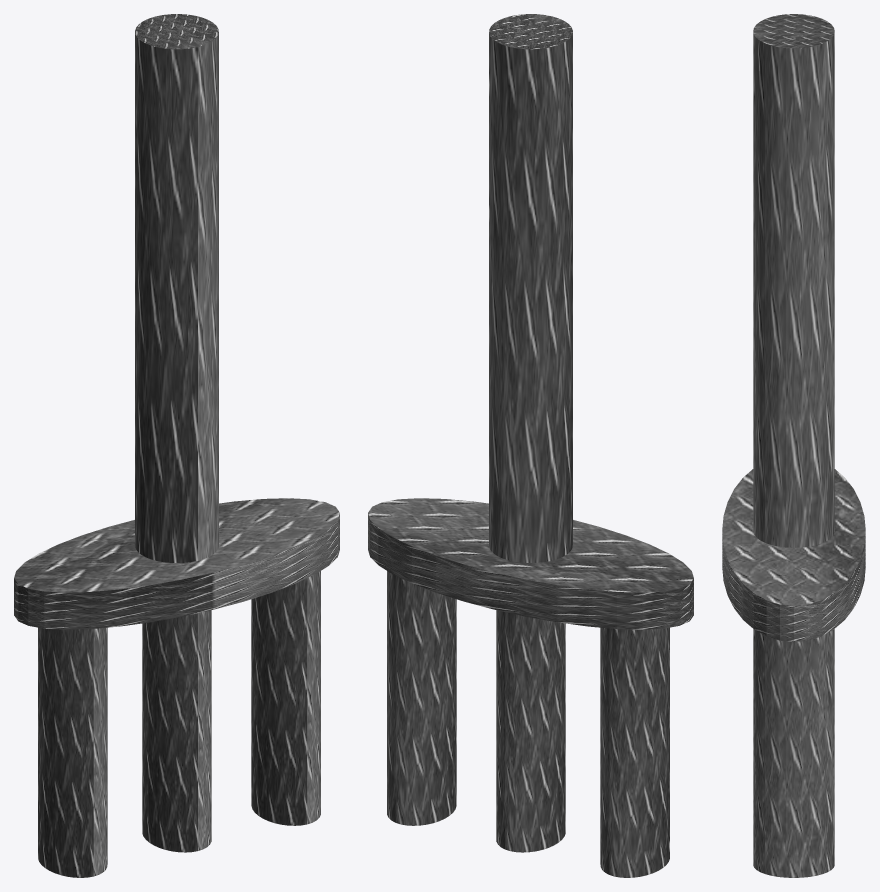
The model's file is Fork.fbx.
3 renders of one model, left to right at view 1: azimuth 30°, elevation 25°; view 2: azimuth 150°, elevation 25°; view 3: azimuth 270°, elevation 25°, orthographic. The views are drawn at different scales.
Visible parts, largest first — view 1: Cylinder.001; view 2: Cylinder.001; view 3: Cylinder.001.
Boxes of the visible parts, <box> form: Cylinder.001: <box>14,14,339,877</box>; Cylinder.001: <box>368,14,693,877</box>; Cylinder.001: <box>722,14,865,877</box>.
Bounding box in the file's own units: 64.36 × 156 × 25.93.
1 material, 1 textured.
